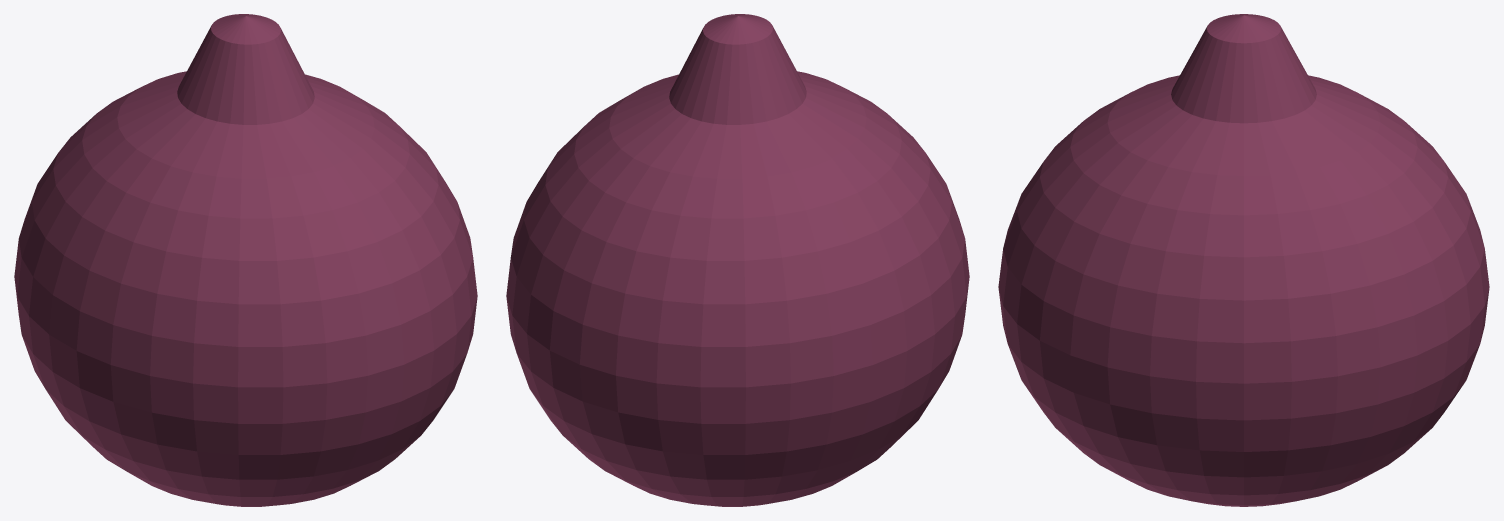
The model's file is Bawang Merah.fbx.
3 views of the same model, side by side, from view 1: azimuth 30°, elevation 25°; view 2: azimuth 150°, elevation 25°; view 3: azimuth 270°, elevation 25° (orthographic).
Visible parts, largest first — view 1: Sphere; view 2: Sphere; view 3: Sphere.
Part boxes in pixels (x1,y1,x2,y2): Sphere: [14, 14, 477, 506]; Sphere: [506, 14, 969, 506]; Sphere: [998, 14, 1489, 506].
Size of the model in its own units: 179 by 203 by 192.
